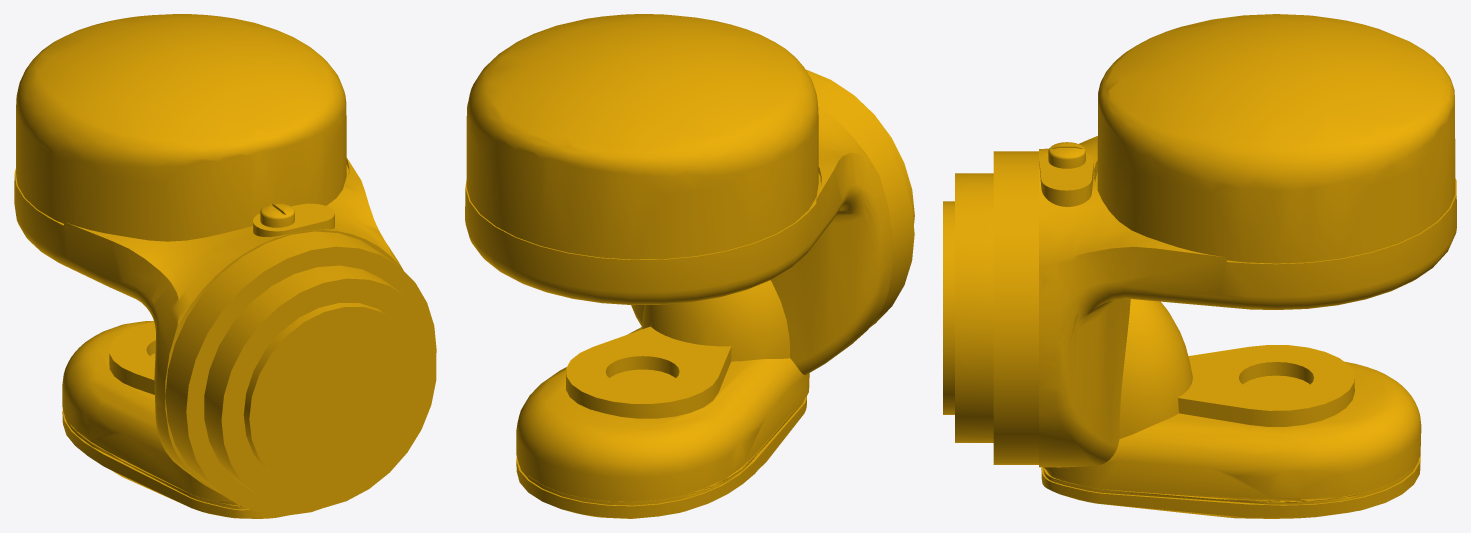
3 views of the same model, side by side, from view 1: azimuth 30°, elevation 25°; view 2: azimuth 150°, elevation 25°; view 3: azimuth 270°, elevation 25° (orthographic). The views are drawn at different scales.
Visible parts, largest first — view 1: KR210R3100_Link5; view 2: KR210R3100_Link5; view 3: KR210R3100_Link5.
Part boxes in pixels (bbox=[...]): KR210R3100_Link5: bbox=[14, 14, 436, 518]; KR210R3100_Link5: bbox=[465, 14, 914, 518]; KR210R3100_Link5: bbox=[943, 14, 1456, 518].
Size of the model in its own units: 0.2402 by 0.3406 by 0.3246.
